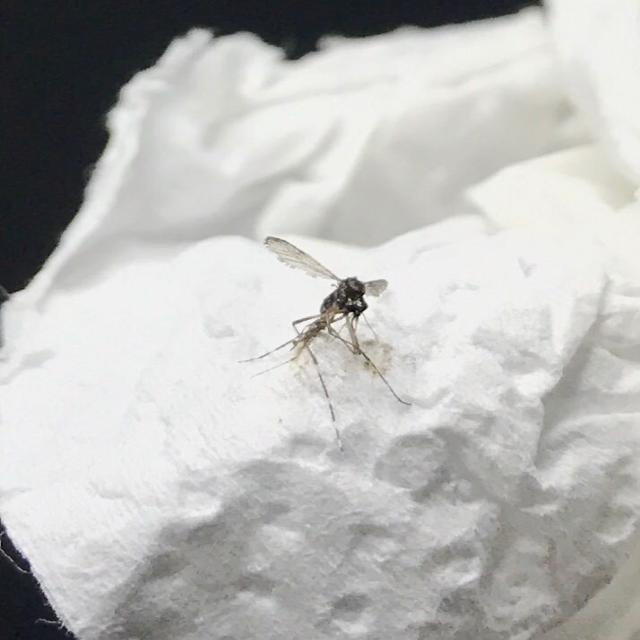albopictus: (228, 224, 412, 450)
